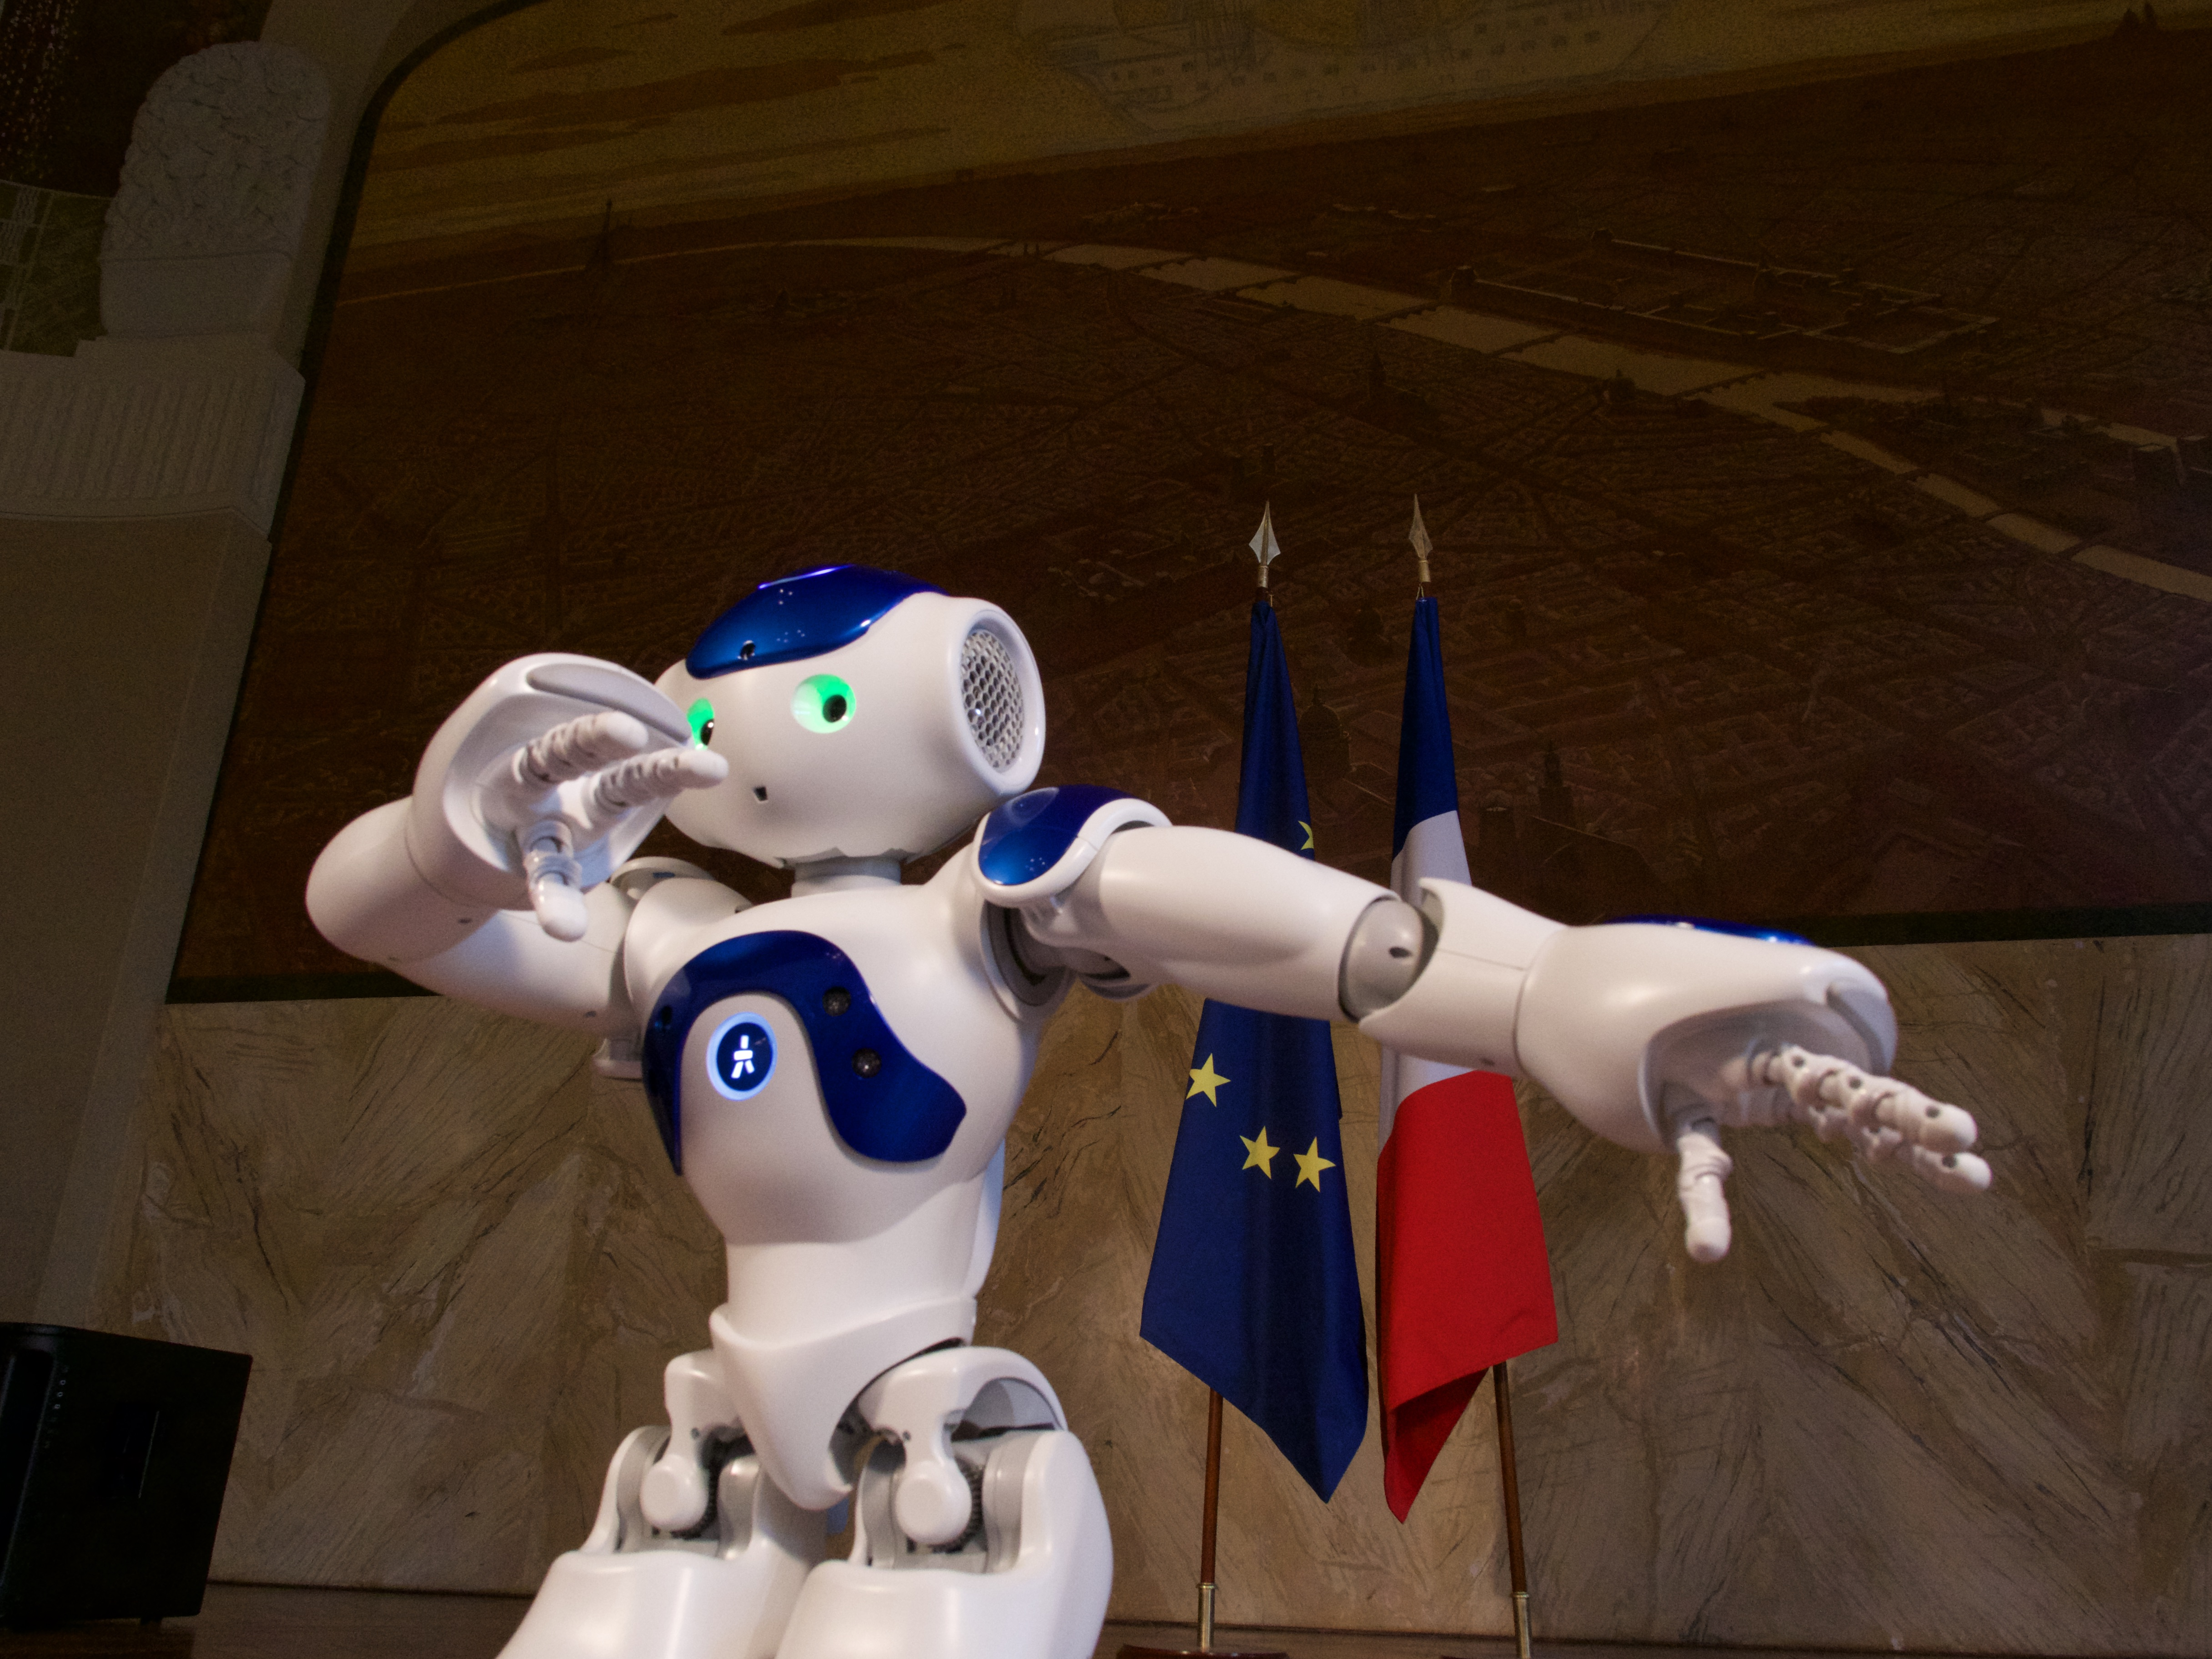nao: (261, 467, 1998, 1652)
